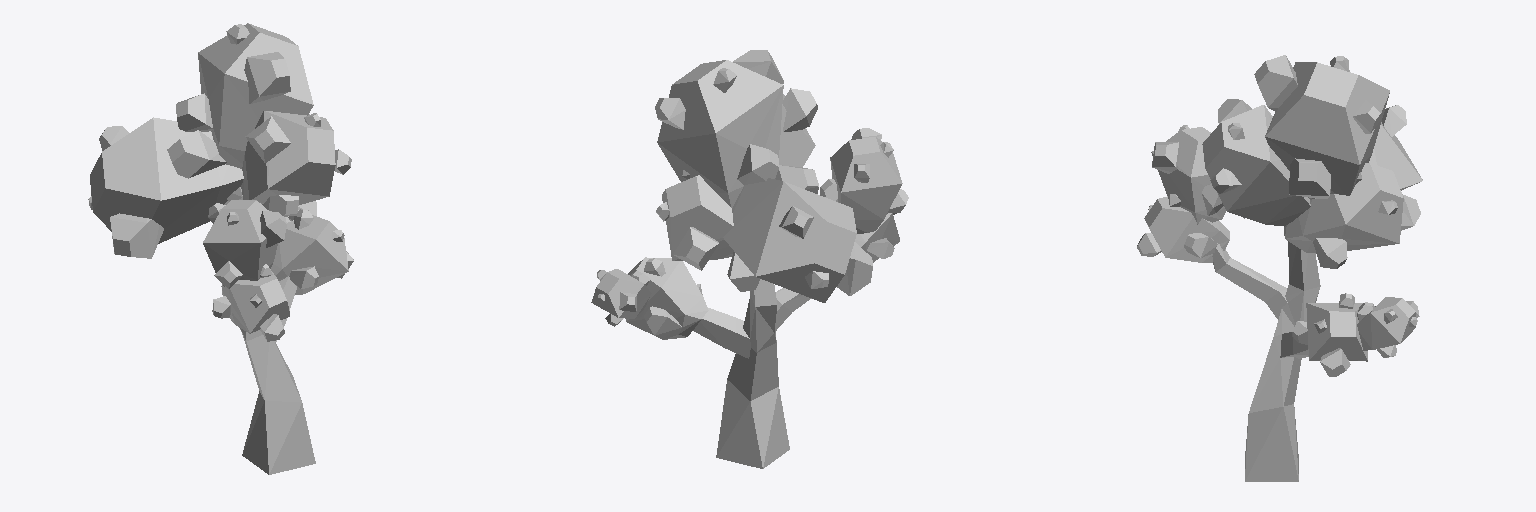
Rendered from Arbol1.obj.
3 renders of one model, left to right at view 1: azimuth 30°, elevation 25°; view 2: azimuth 150°, elevation 25°; view 3: azimuth 270°, elevation 25°, orthographic.
Parts seen in each view (by area): view 1: pasted__tree_obj_Mesh group35; view 2: pasted__tree_obj_Mesh group35; view 3: pasted__tree_obj_Mesh group35.
Part boxes in pixels (left/top/right/bottom): pasted__tree_obj_Mesh group35: left=88, top=23, right=353, bottom=474; pasted__tree_obj_Mesh group35: left=591, top=50, right=908, bottom=468; pasted__tree_obj_Mesh group35: left=1137, top=55, right=1422, bottom=481.
Bounding box in the file's own units: 6.04 × 9.53 × 6.04.